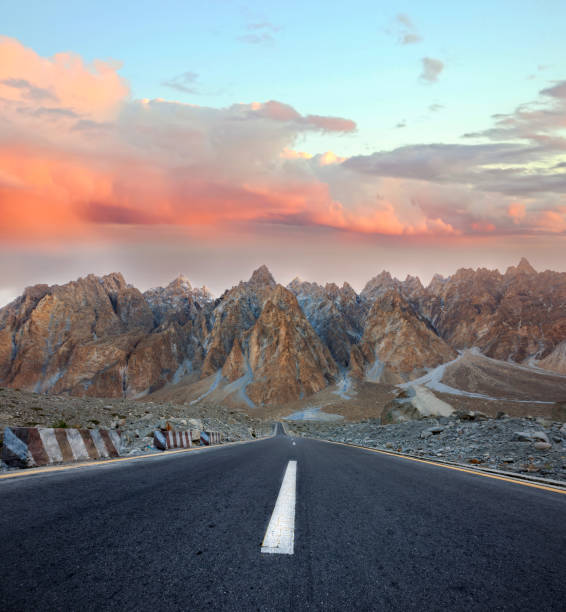straightRoad: (154, 410, 426, 612)
